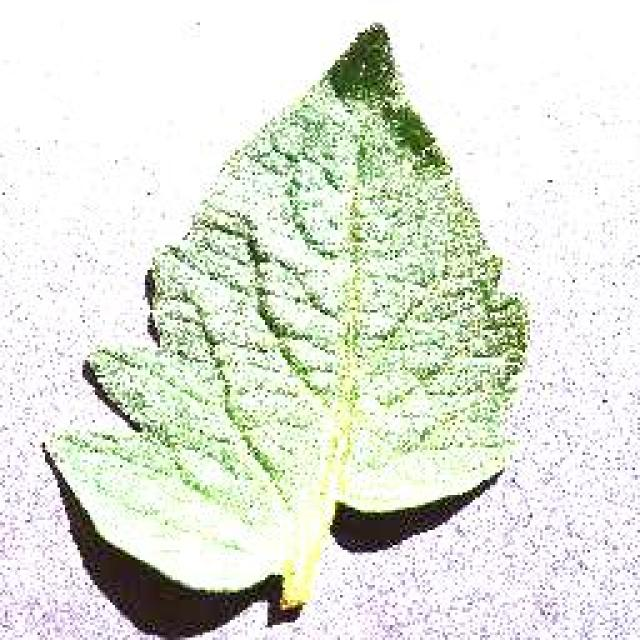Tomato___healthy: (43, 19, 527, 612)
